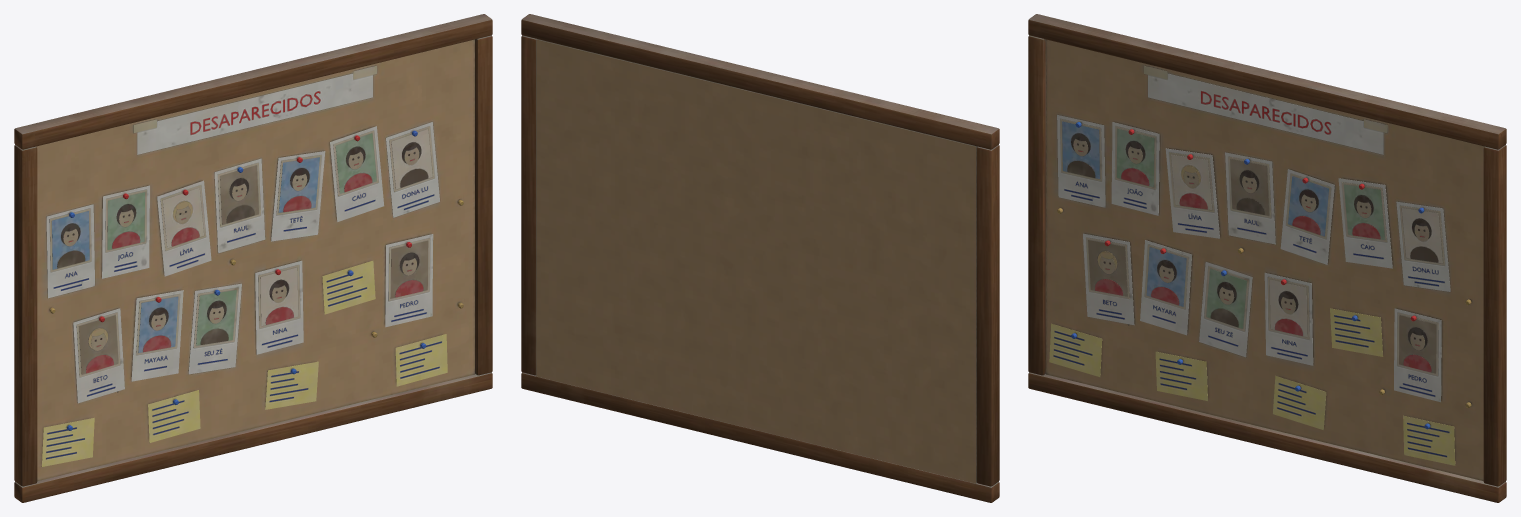
Rendered from mural_desaparecidos.glb.
The picture shows the model from 3 angles, left to right: view 1: azimuth 30°, elevation 25°; view 2: azimuth 150°, elevation 25°; view 3: azimuth 330°, elevation 25°; orthographic projection.
Parts seen in each view (by area): view 1: mural; view 2: mural; view 3: mural.
Part boxes in pixels (x1,y1,x2,y2): mural: (14, 14, 492, 502); mural: (521, 14, 999, 502); mural: (1028, 14, 1506, 502).
Bounding box in the file's own units: 1.2 × 0.9 × 0.0455.
Materials: 1 (1 with a texture image).
